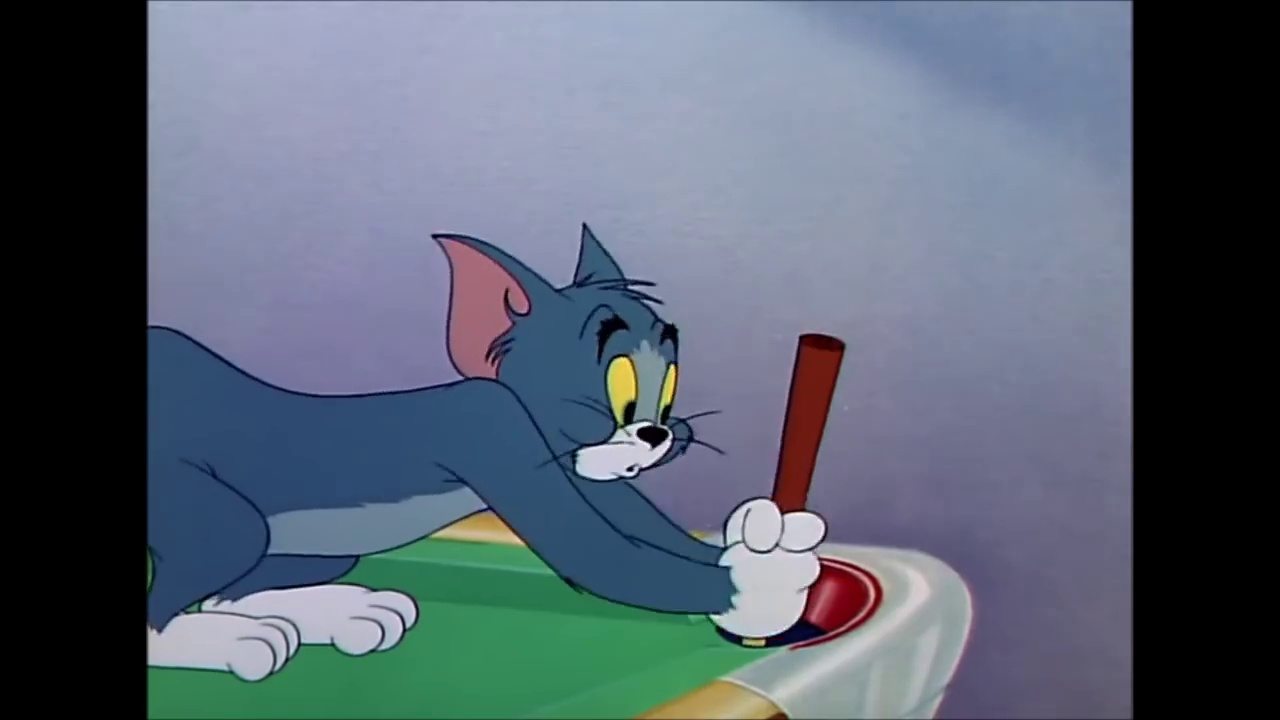surprised: (570, 282, 682, 490)
